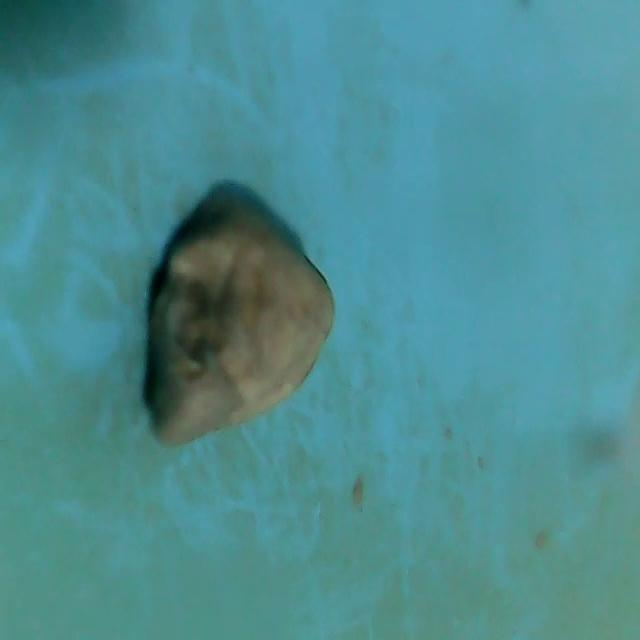rock: (126, 197, 341, 456)
